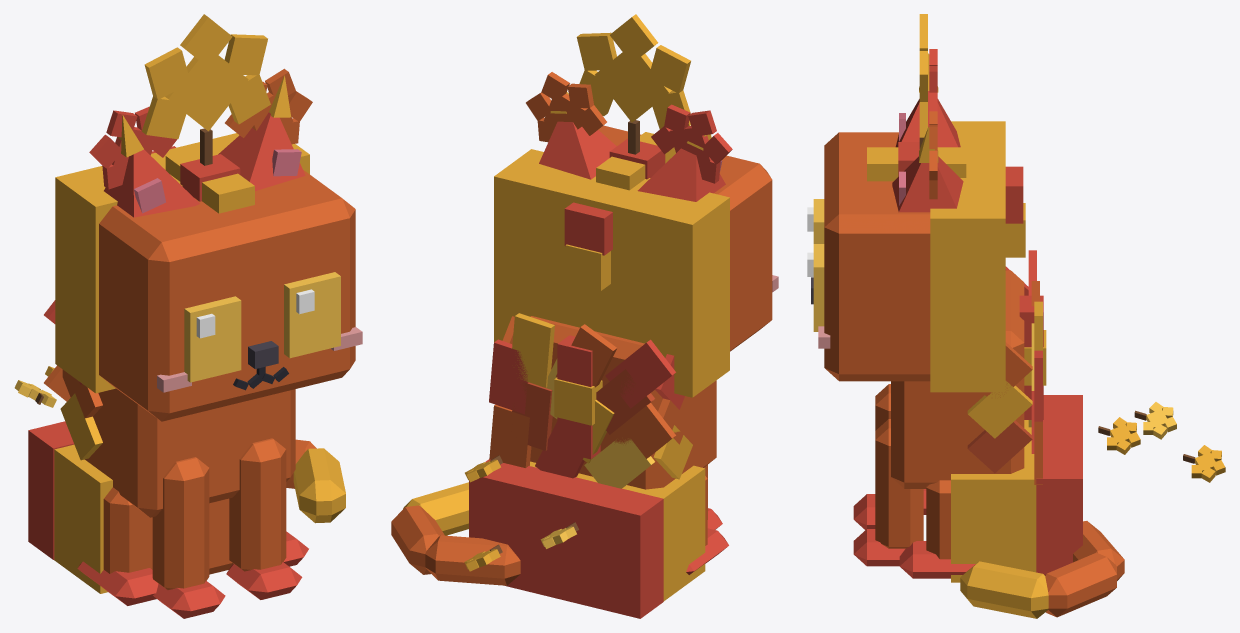
File: CatCafe_Cat_MapleLeaf_Sit.fbx
The picture shows the model from 3 angles, left to right: view 1: azimuth 30°, elevation 25°; view 2: azimuth 150°, elevation 25°; view 3: azimuth 270°, elevation 25°; orthographic projection. The views are drawn at different scales.
Visible parts, largest first — view 1: CatCafe_Cat_MapleLeaf_Sit_Head, CatCafe_Cat_MapleLeaf_Sit_Body, CatCafe_Cat_MapleLeaf_Sit_Glow, CatCafe_Cat_MapleLeaf_Sit_LegF1, CatCafe_Cat_MapleLeaf_Sit_LegF2, CatCafe_Cat_MapleLeaf_Sit_Prop, CatCafe_Cat_MapleLeaf_Sit_Eye2, CatCafe_Cat_MapleLeaf_Sit_Eye1, CatCafe_Cat_MapleLeaf_Sit_EarL, CatCafe_Cat_MapleLeaf_Sit_EarR, CatCafe_Cat_MapleLeaf_Sit_Tail, CatCafe_Cat_MapleLeaf_Sit_Prop2 (+1 smaller); view 2: CatCafe_Cat_MapleLeaf_Sit_Head, CatCafe_Cat_MapleLeaf_Sit_Body, CatCafe_Cat_MapleLeaf_Sit_Prop2, CatCafe_Cat_MapleLeaf_Sit_Glow, CatCafe_Cat_MapleLeaf_Sit_Tail, CatCafe_Cat_MapleLeaf_Sit_Prop, CatCafe_Cat_MapleLeaf_Sit_EarL, CatCafe_Cat_MapleLeaf_Sit_EarR, CatCafe_Cat_MapleLeaf_Sit_Leaves_Glow; view 3: CatCafe_Cat_MapleLeaf_Sit_Head, CatCafe_Cat_MapleLeaf_Sit_Body, CatCafe_Cat_MapleLeaf_Sit_Tail, CatCafe_Cat_MapleLeaf_Sit_Prop2, CatCafe_Cat_MapleLeaf_Sit_LegF1, CatCafe_Cat_MapleLeaf_Sit_EarL, CatCafe_Cat_MapleLeaf_Sit_Leaves_Glow, CatCafe_Cat_MapleLeaf_Sit_EarR, CatCafe_Cat_MapleLeaf_Sit_Prop, CatCafe_Cat_MapleLeaf_Sit_LegF2, CatCafe_Cat_MapleLeaf_Sit_Eye1, CatCafe_Cat_MapleLeaf_Sit_Glow (+1 smaller).
Boxes of the visible parts, x1,y1,x2,y2 form: CatCafe_Cat_MapleLeaf_Sit_Head: (55, 133, 362, 421); CatCafe_Cat_MapleLeaf_Sit_Body: (28, 388, 308, 605); CatCafe_Cat_MapleLeaf_Sit_Glow: (142, 14, 270, 165); CatCafe_Cat_MapleLeaf_Sit_LegF1: (226, 438, 302, 599); CatCafe_Cat_MapleLeaf_Sit_LegF2: (152, 457, 225, 618); CatCafe_Cat_MapleLeaf_Sit_Prop: (89, 68, 312, 189); CatCafe_Cat_MapleLeaf_Sit_Eye2: (184, 296, 241, 382); CatCafe_Cat_MapleLeaf_Sit_Eye1: (284, 272, 340, 358); CatCafe_Cat_MapleLeaf_Sit_EarL: (218, 75, 305, 190); CatCafe_Cat_MapleLeaf_Sit_EarR: (104, 115, 199, 217); CatCafe_Cat_MapleLeaf_Sit_Tail: (286, 439, 345, 523); CatCafe_Cat_MapleLeaf_Sit_Prop2: (44, 300, 102, 460); CatCafe_Cat_MapleLeaf_Sit_Head: (494, 125, 778, 397); CatCafe_Cat_MapleLeaf_Sit_Body: (469, 316, 728, 618); CatCafe_Cat_MapleLeaf_Sit_Prop2: (489, 313, 692, 488); CatCafe_Cat_MapleLeaf_Sit_Glow: (576, 14, 690, 154); CatCafe_Cat_MapleLeaf_Sit_Tail: (391, 482, 520, 585); CatCafe_Cat_MapleLeaf_Sit_Prop: (526, 72, 732, 183); CatCafe_Cat_MapleLeaf_Sit_EarL: (539, 74, 616, 179); CatCafe_Cat_MapleLeaf_Sit_EarR: (637, 134, 725, 201); CatCafe_Cat_MapleLeaf_Sit_Leaves_Glow: (464, 455, 578, 571); CatCafe_Cat_MapleLeaf_Sit_Head: (811, 121, 1025, 392); CatCafe_Cat_MapleLeaf_Sit_Body: (891, 270, 1082, 582); CatCafe_Cat_MapleLeaf_Sit_Tail: (960, 521, 1124, 618); CatCafe_Cat_MapleLeaf_Sit_Prop2: (967, 250, 1042, 484); CatCafe_Cat_MapleLeaf_Sit_LegF1: (853, 419, 923, 566); CatCafe_Cat_MapleLeaf_Sit_EarL: (892, 126, 963, 212); CatCafe_Cat_MapleLeaf_Sit_Leaves_Glow: (1098, 402, 1225, 482); CatCafe_Cat_MapleLeaf_Sit_EarR: (895, 53, 960, 147); CatCafe_Cat_MapleLeaf_Sit_Prop: (929, 49, 937, 199); CatCafe_Cat_MapleLeaf_Sit_LegF2: (853, 384, 890, 529); CatCafe_Cat_MapleLeaf_Sit_Eye1: (807, 244, 824, 331); CatCafe_Cat_MapleLeaf_Sit_Glow: (919, 14, 927, 148).
Size of the model in its own units: 1.26 by 2.28 by 1.64.
1 material, 1 textured.
